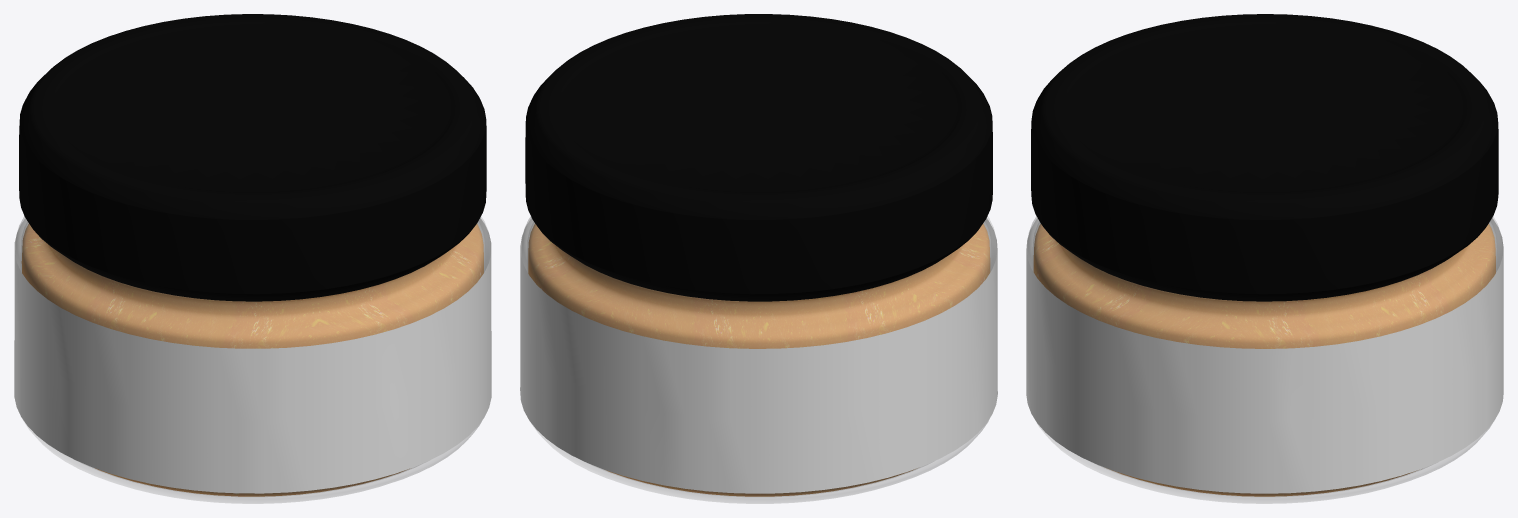
The model's file is jar-150g-v8.glb.
3 views of the same model, side by side, from view 1: azimuth 30°, elevation 25°; view 2: azimuth 150°, elevation 25°; view 3: azimuth 270°, elevation 25° (orthographic).
Parts seen in each view (by area): view 1: lid_object_150g, label_object_150g, jar_object_150g, honey_object_150g; view 2: lid_object_150g, label_object_150g, jar_object_150g, honey_object_150g; view 3: lid_object_150g, label_object_150g, jar_object_150g, honey_object_150g.
Part boxes in pixels (x1,y1,x2,y2): lid_object_150g: [19, 14, 486, 301]; label_object_150g: [14, 218, 491, 493]; jar_object_150g: [15, 216, 490, 503]; honey_object_150g: [21, 224, 483, 496]; lid_object_150g: [525, 14, 992, 301]; label_object_150g: [520, 218, 997, 493]; jar_object_150g: [522, 216, 996, 503]; honey_object_150g: [528, 223, 990, 496]; lid_object_150g: [1031, 14, 1498, 301]; label_object_150g: [1026, 218, 1503, 493]; jar_object_150g: [1027, 216, 1502, 503]; honey_object_150g: [1033, 224, 1495, 496].
Size of the model in its own units: 0.0733 by 0.0528 by 0.0733.
Materials: 4 (1 with a texture image).
